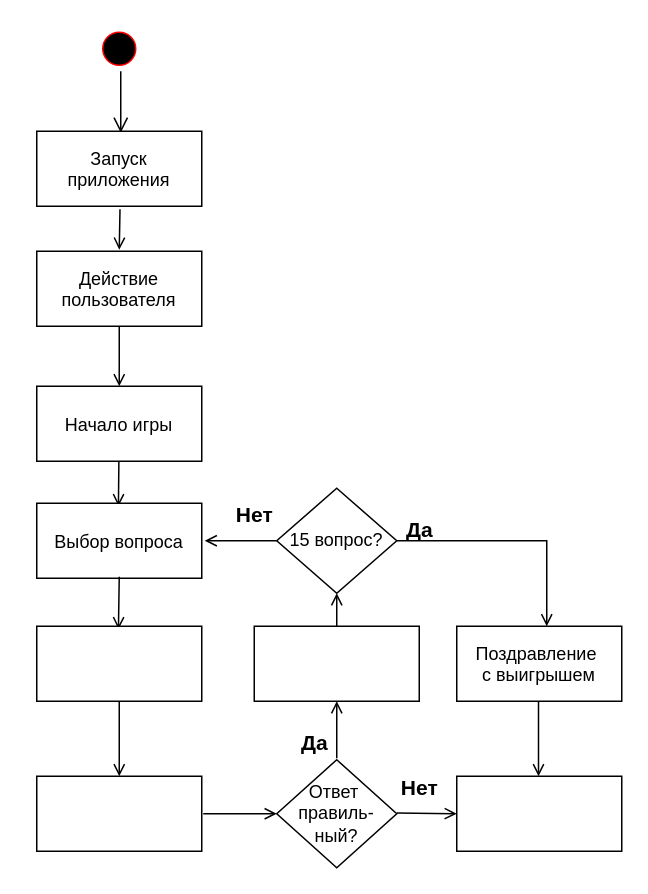
The diagram is 648 pixels wide and 894 high, and some of its shapes have lost their labels. Here are the shapes that lost their labels. From the top down, the centre of each, then its label:
[118,663]: Отображение вопроса с вариантами ответа
[336,663]: Начисление выигрыша
[118,813]: Игрок выбирает вариант ответа
[538,813]: Конец игры
